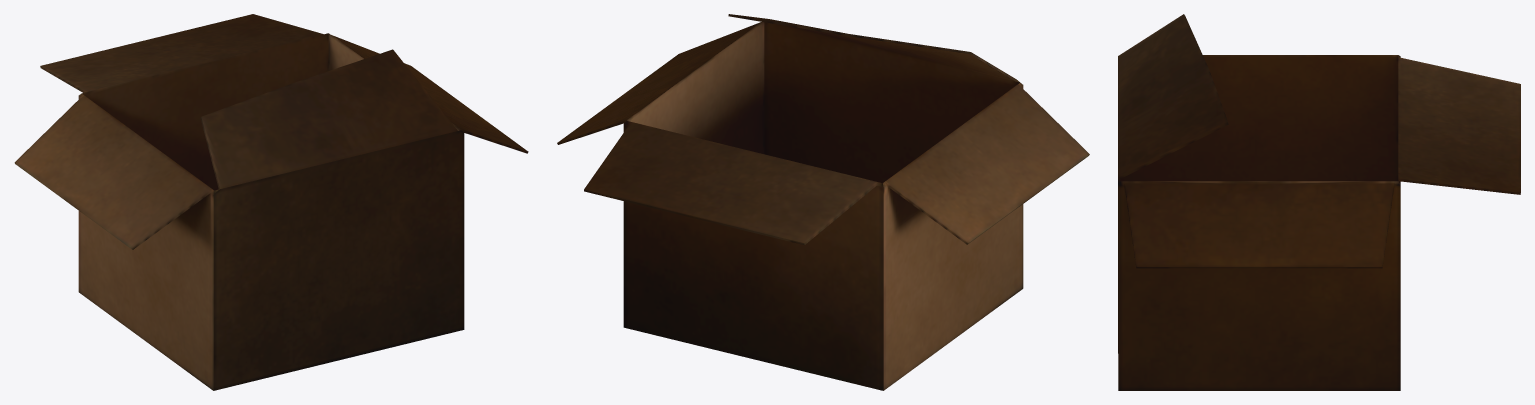
File: G2_DM_cartons_6.gltf
The picture shows the model from 3 angles, left to right: view 1: azimuth 30°, elevation 25°; view 2: azimuth 150°, elevation 25°; view 3: azimuth 270°, elevation 25°; orthographic projection. The views are drawn at different scales.
Visible parts, largest first — view 1: carton.004; view 2: carton.004; view 3: carton.004.
Boxes of the visible parts, bbox=[...] form: carton.004: bbox=[14, 14, 528, 390]; carton.004: bbox=[557, 14, 1089, 390]; carton.004: bbox=[1118, 14, 1520, 390].
Size of the model in its own units: 0.7065 by 0.42 by 0.5928.
